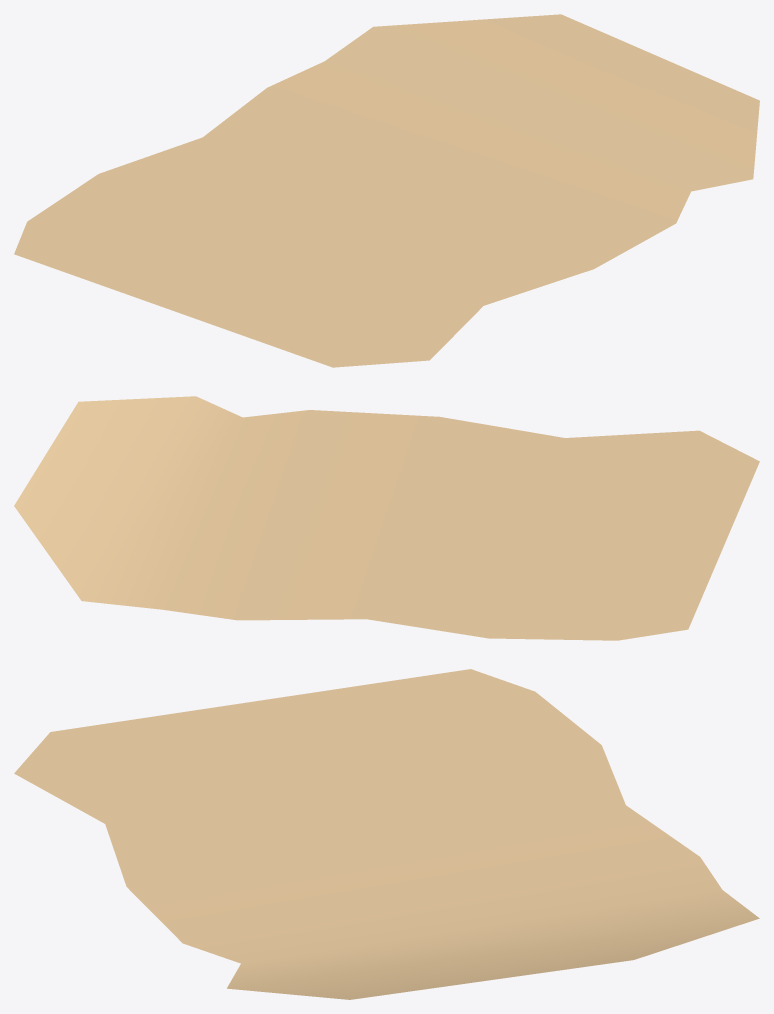
Rendered from Papier_Abimé.fbx.
The picture shows the model from 3 angles, top to bottom: view 1: azimuth 30°, elevation 25°; view 2: azimuth 150°, elevation 25°; view 3: azimuth 270°, elevation 25°; orthographic projection. The views are drawn at different scales.
Visible parts, largest first — view 1: Plane.092; view 2: Plane.092; view 3: Plane.092.
Part boxes in pixels (x1=…): Plane.092: x1=14, y1=14, x2=759, y2=367; Plane.092: x1=14, y1=396, x2=759, y2=640; Plane.092: x1=14, y1=669, x2=759, y2=999.
Size of the model in its own units: 0.3234 by 0.0144 by 0.2834.
